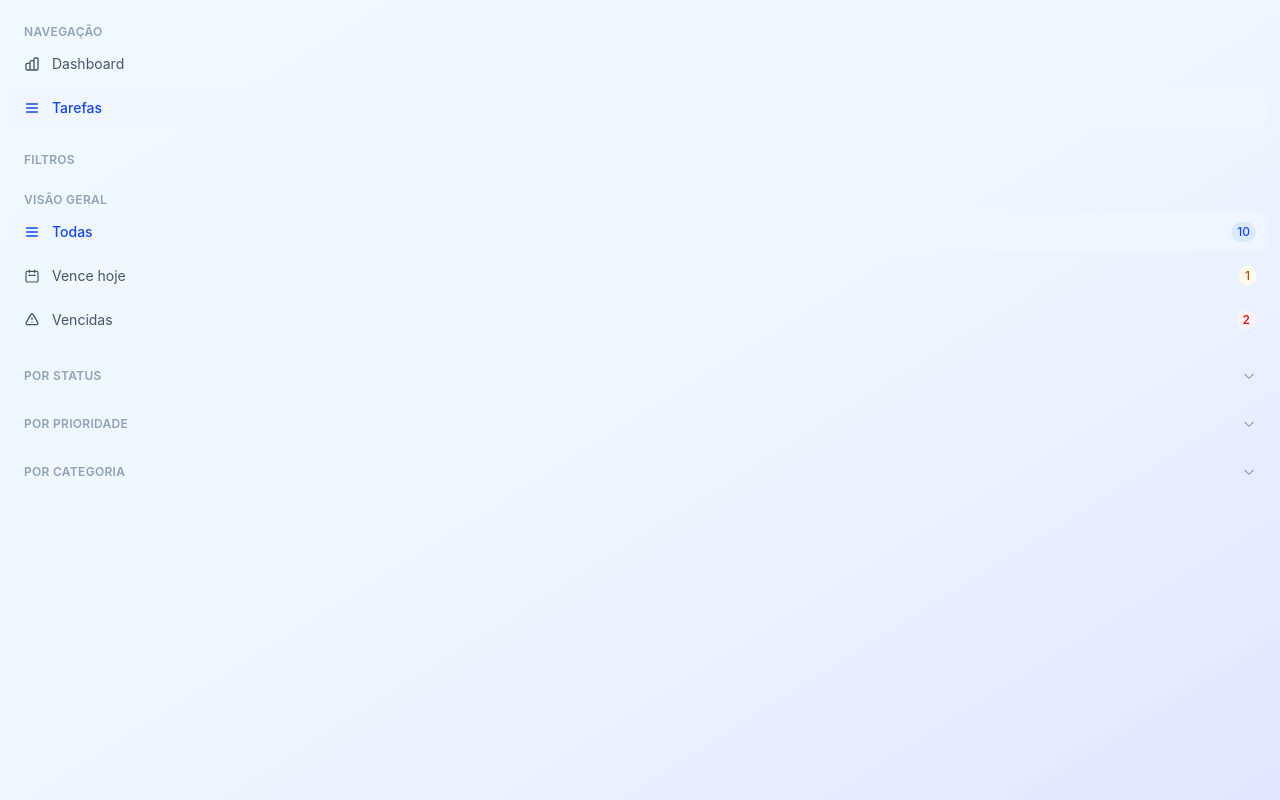
Test: FilterSidebar › exibe mensagem quando não há categorias
Click the button "Por categoria".
click(75, 472)  # box [12,460,1268,484]
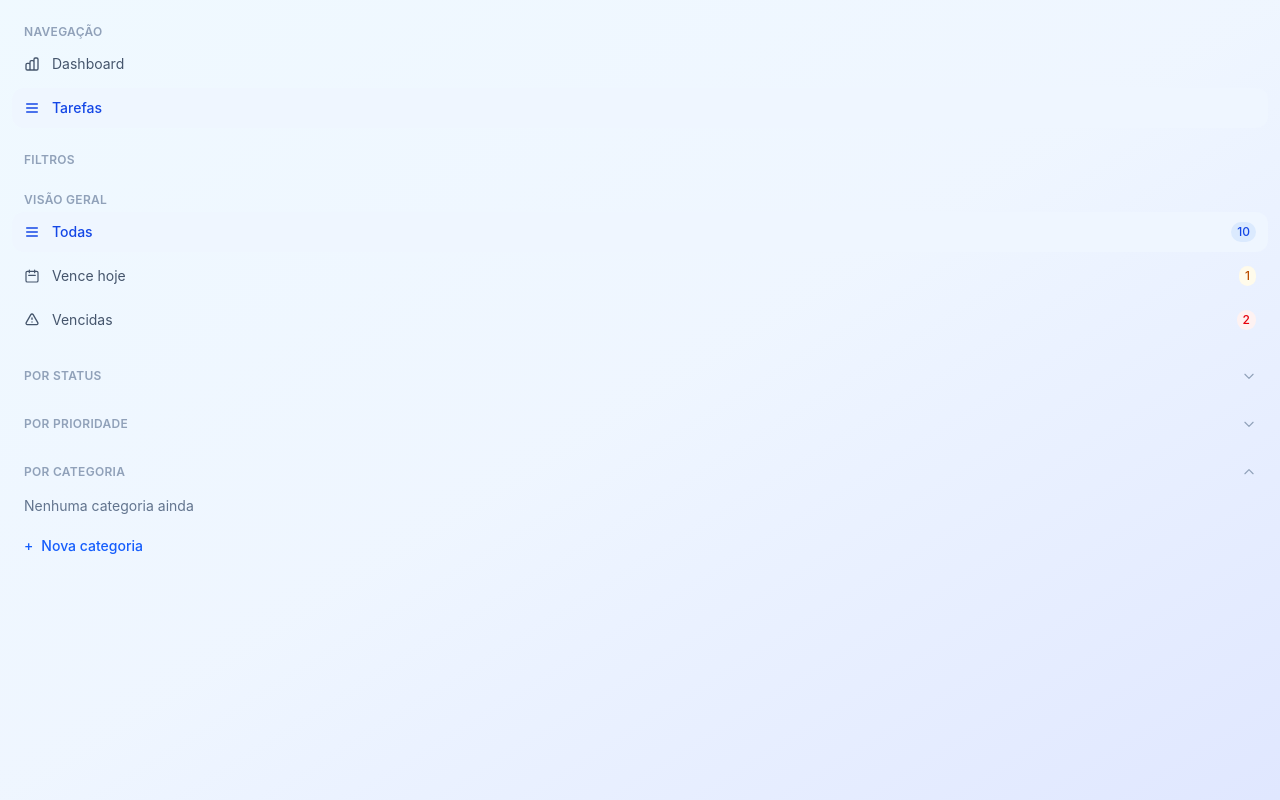
expect the text "Nenhuma categoria ainda" is shown: met, box [24,497,194,514]
